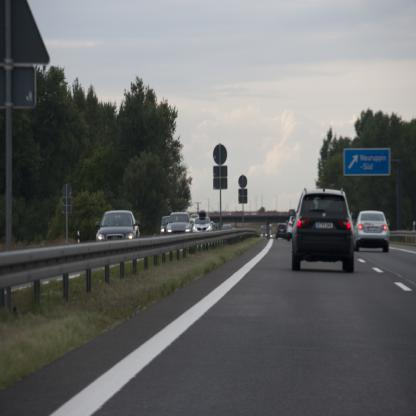Car: (292, 187, 356, 274), (354, 210, 390, 254), (94, 210, 141, 241), (159, 214, 215, 234), (276, 223, 286, 240), (288, 216, 294, 240)
